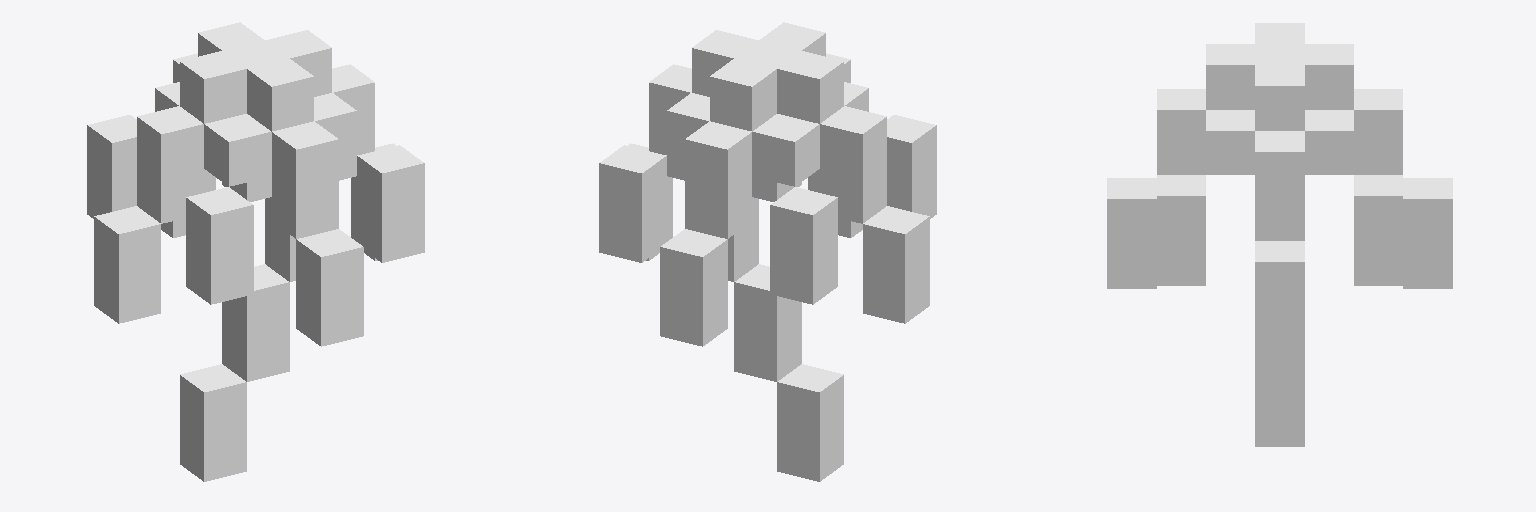
The model's file is Palm_tree.obj.
3 views of the same model, side by side, from view 1: azimuth 30°, elevation 25°; view 2: azimuth 150°, elevation 25°; view 3: azimuth 270°, elevation 25° (orthographic).
Parts seen in each view (by area): view 1: Palm_tree; view 2: Palm_tree; view 3: Palm_tree.
Boxes of the visible parts, <box> form: Palm_tree: <box>87,22,424,481</box>; Palm_tree: <box>599,22,936,481</box>; Palm_tree: <box>1107,23,1452,446</box>.
Bounding box in the file's own units: 7 × 9 × 7.